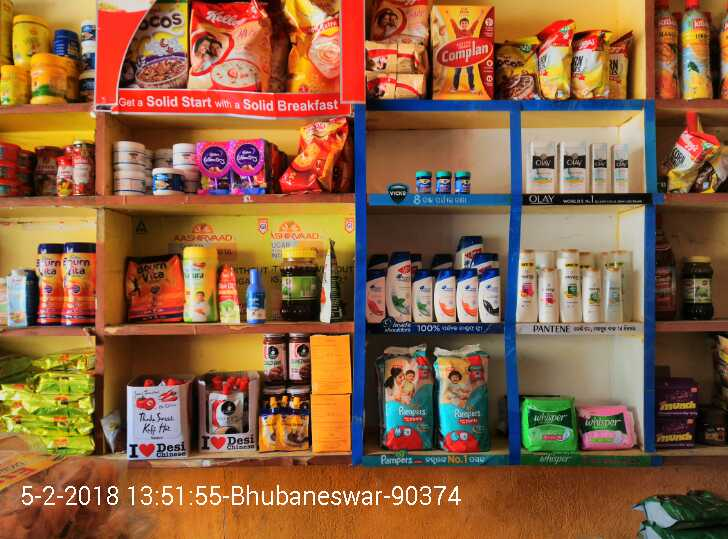beauty: (382, 251, 414, 327), (511, 247, 539, 327), (554, 247, 581, 323), (528, 136, 556, 194), (411, 267, 437, 322), (434, 264, 458, 321), (454, 267, 478, 321), (481, 267, 502, 321), (591, 140, 609, 199), (564, 140, 584, 191), (612, 140, 631, 193), (584, 272, 604, 321), (607, 274, 622, 319)
pharmacy: (430, 352, 492, 450), (378, 351, 434, 453), (570, 403, 640, 449), (523, 395, 573, 451), (411, 165, 473, 197)
